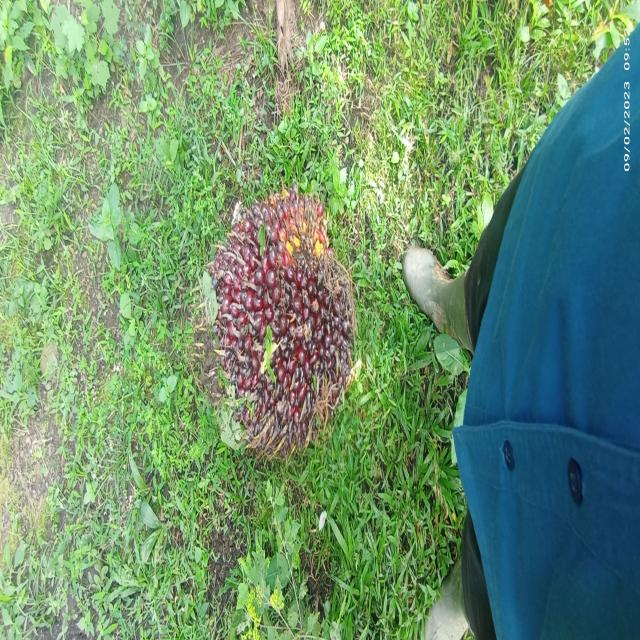fraksi 1: (175, 176, 373, 470)
